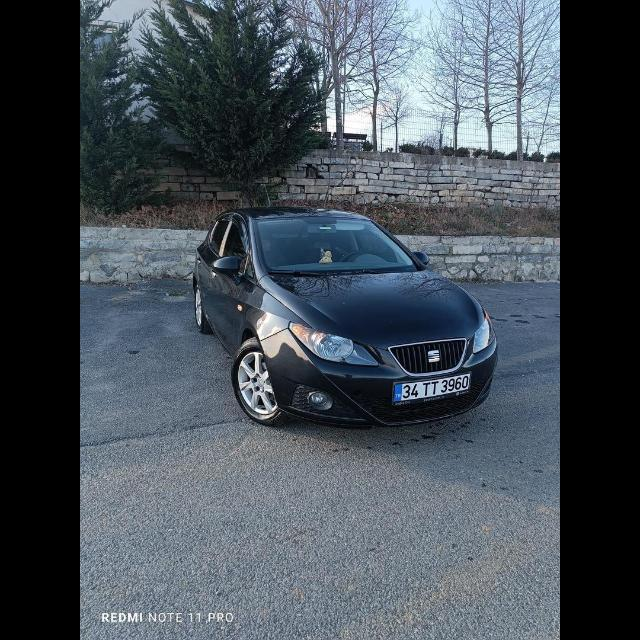Plaka: (394, 372, 470, 400)
